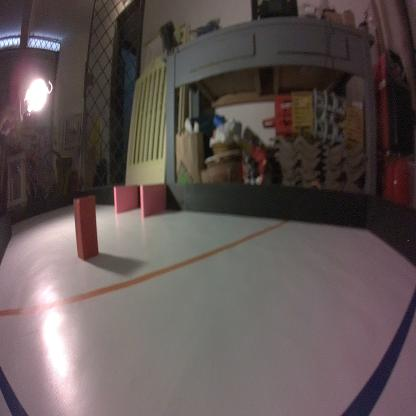magenta: (140, 181, 166, 221), (112, 181, 141, 213)
red: (72, 193, 99, 261)
